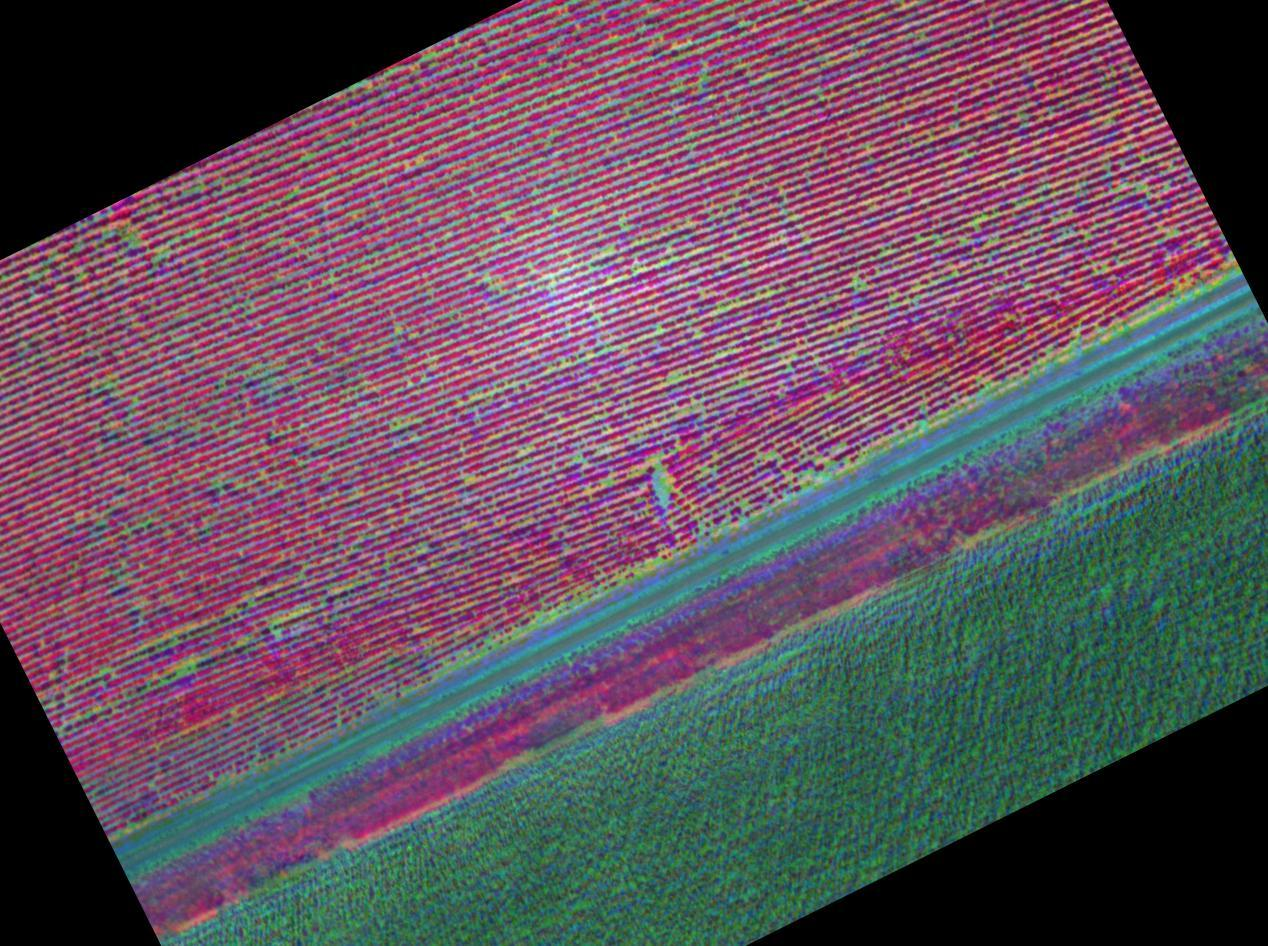dc: (182, 670, 186, 675), (485, 277, 489, 281), (605, 480, 609, 484), (422, 548, 426, 552), (129, 236, 132, 240), (668, 378, 672, 381), (656, 472, 660, 475), (660, 488, 663, 492), (537, 613, 540, 617), (276, 631, 280, 634), (188, 190, 191, 193), (603, 350, 606, 353), (109, 384, 111, 386)
